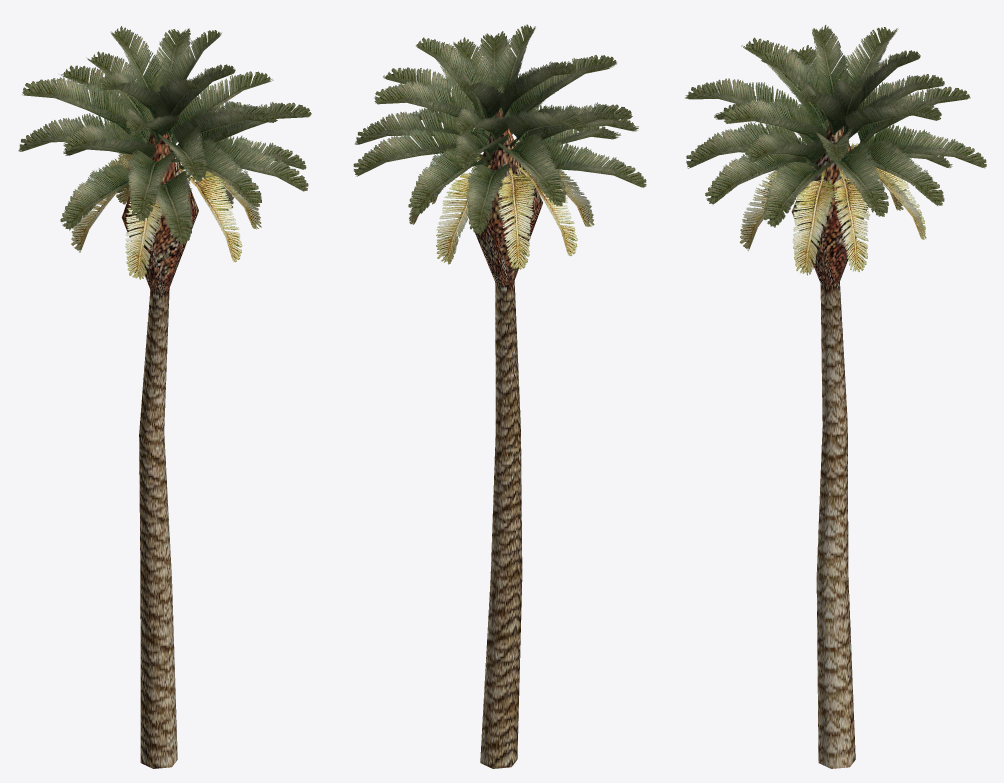
The model's file is flora_tree_cretan_date_palm_tall_v3.glb.
3 views of the same model, side by side, from view 1: azimuth 30°, elevation 25°; view 2: azimuth 150°, elevation 25°; view 3: azimuth 270°, elevation 25° (orthographic).
Parts seen in each view (by area): view 1: flora_tree_cretan_date_palm_tall_v3_part0; view 2: flora_tree_cretan_date_palm_tall_v3_part0; view 3: flora_tree_cretan_date_palm_tall_v3_part0.
Boxes of the visible parts, box(x1,y1,x2,y2) form: flora_tree_cretan_date_palm_tall_v3_part0: box(18, 26, 311, 768); flora_tree_cretan_date_palm_tall_v3_part0: box(353, 24, 646, 768); flora_tree_cretan_date_palm_tall_v3_part0: box(685, 25, 986, 768).
Size of the model in its own units: 9.03 by 23.91 by 9.32.
Materials: 1 (1 with a texture image).
